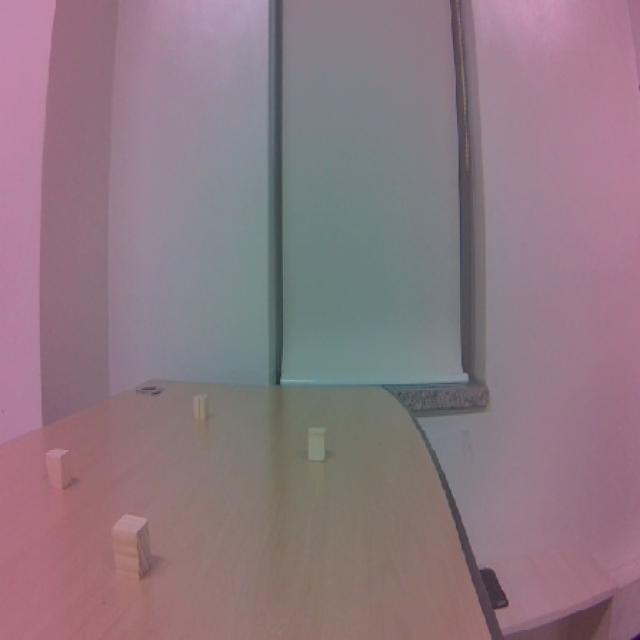obstacle: (100, 507, 165, 592), (36, 442, 90, 500), (296, 420, 335, 470)
